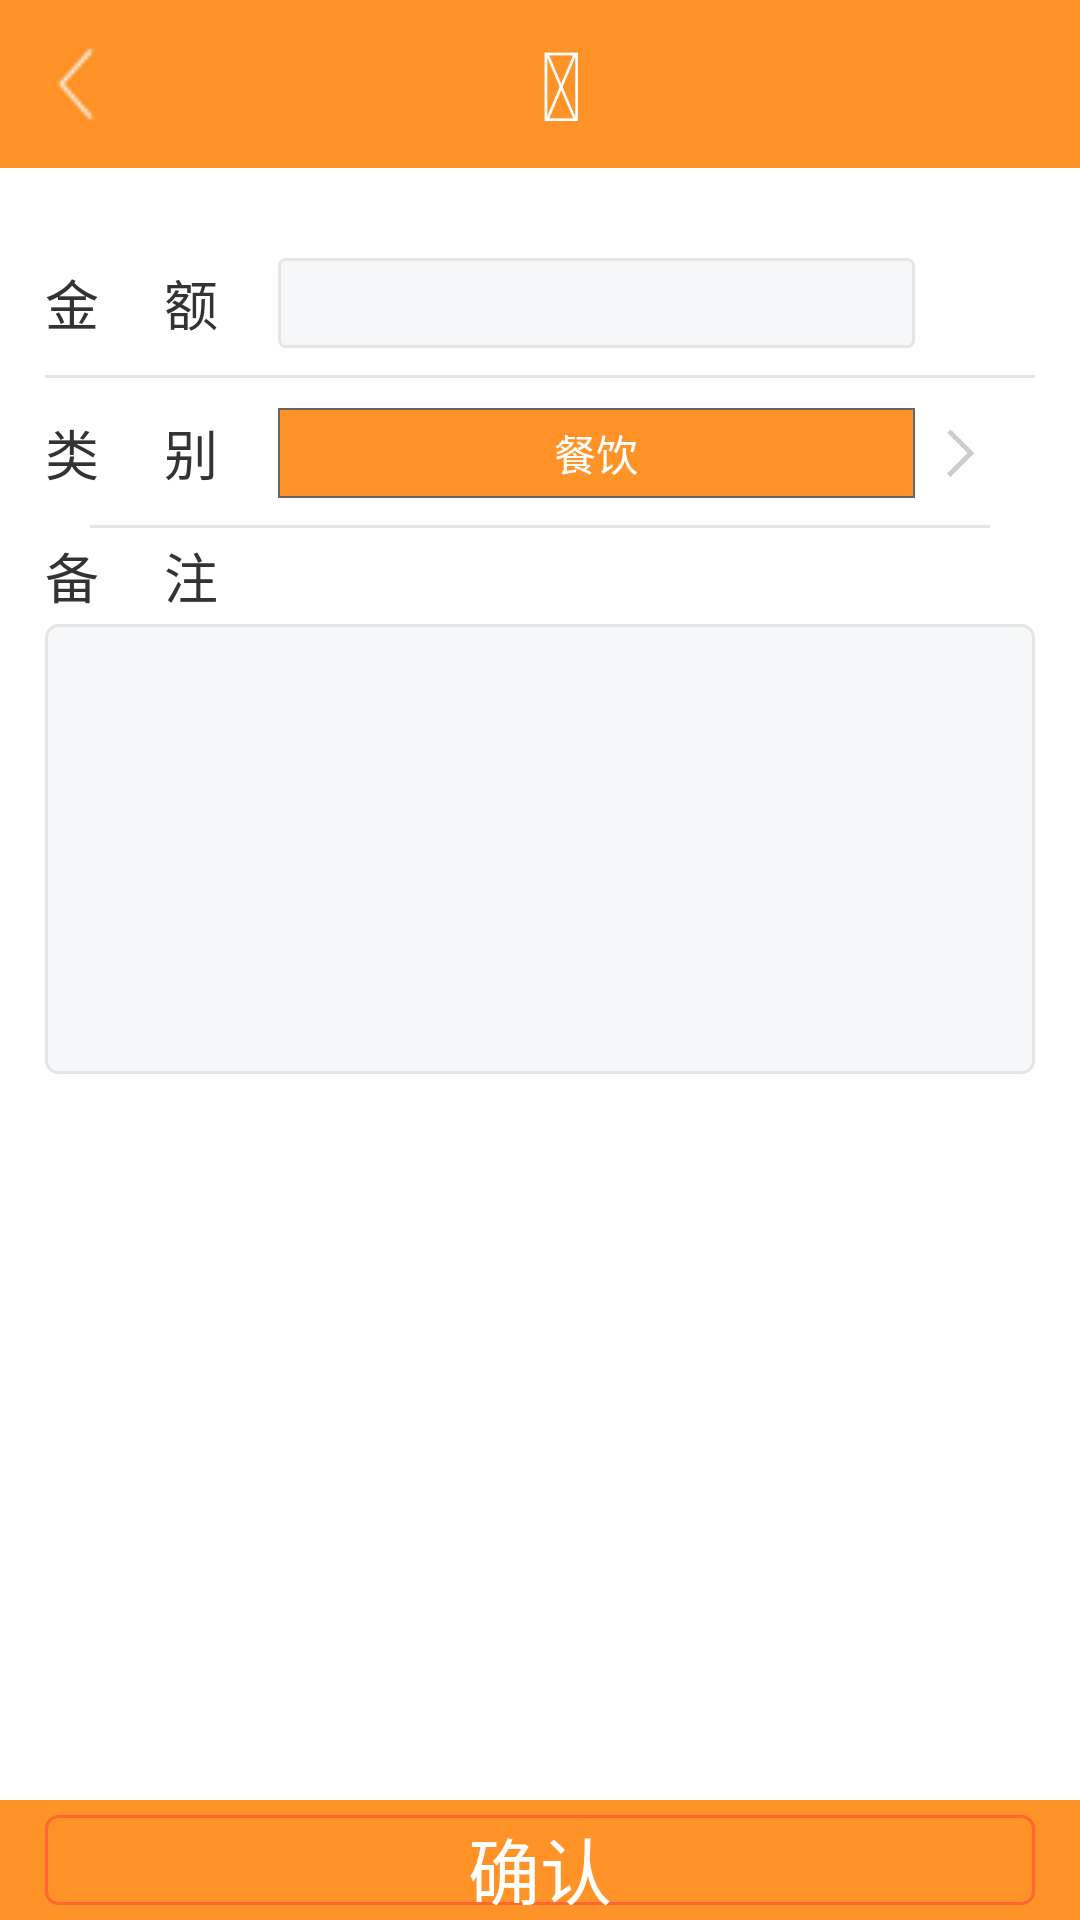

Named icons in this screenshot (1080×1920) and their bounding boxes, [left=x1, top=y1, right=x2, bottom=y2]:
back: [left=58, top=48, right=94, bottom=120]
gengduo: [left=947, top=430, right=974, bottom=477]
